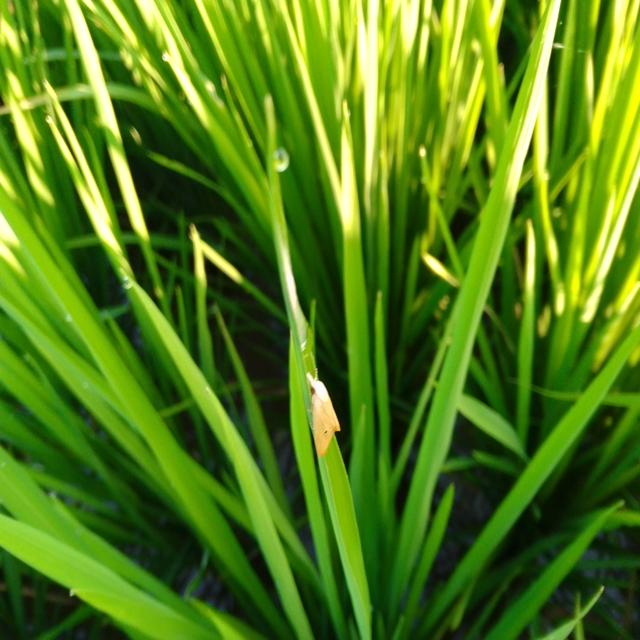Narrow brown: (294, 360, 354, 466)
